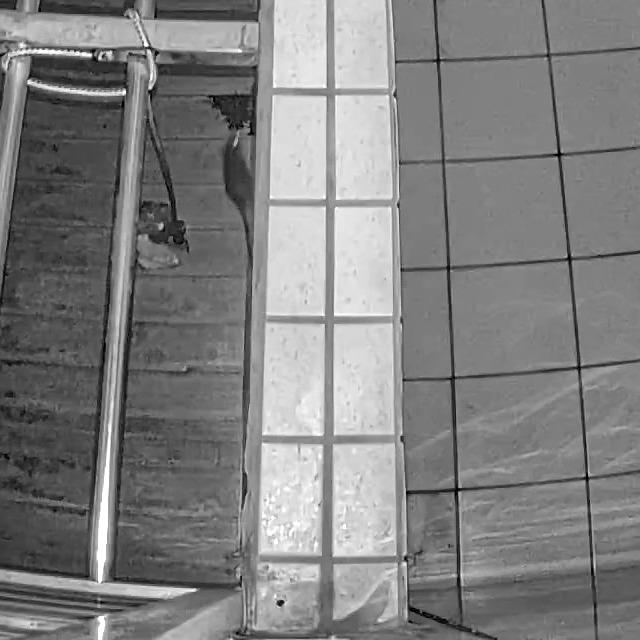rat: (222, 126, 254, 274)
